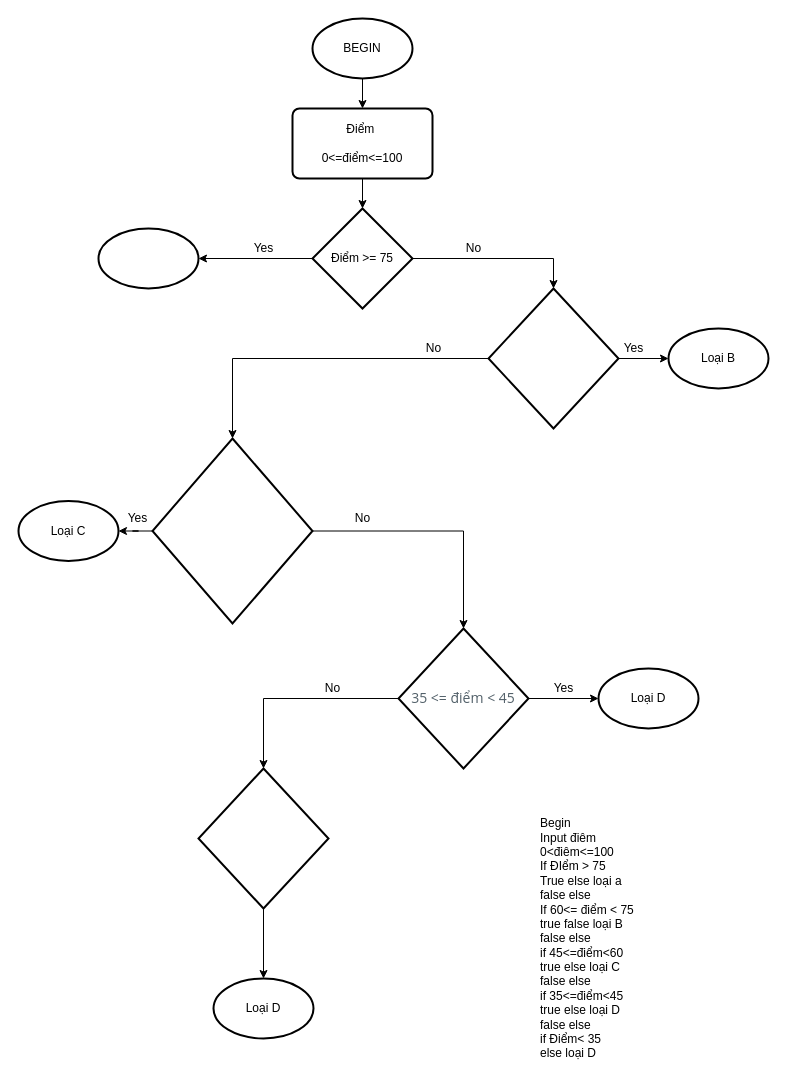
Some shapes in this 786 by 1078 pixel diagram are drawn without their labels. The shapes that lost their labels are listed below. From the top down, each one's centre as x and y in pixels, then its label:
At (x=148, y=258): "Loại A".
At (x=553, y=358): "60 <= điểm < 75".
At (x=232, y=530): "45 <= điểm < 60".
At (x=263, y=838): "điểm < 35".
